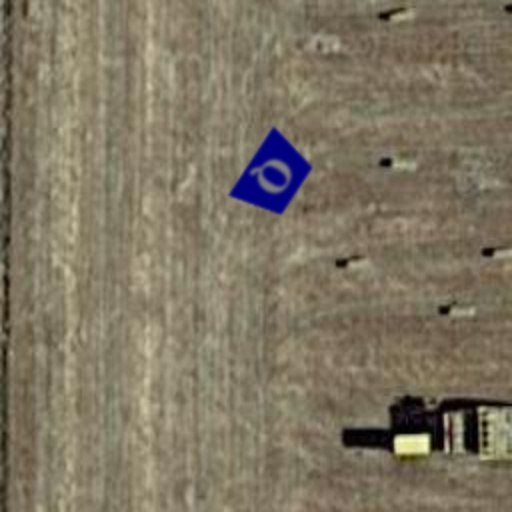trapezoid: (216, 118, 332, 234)
